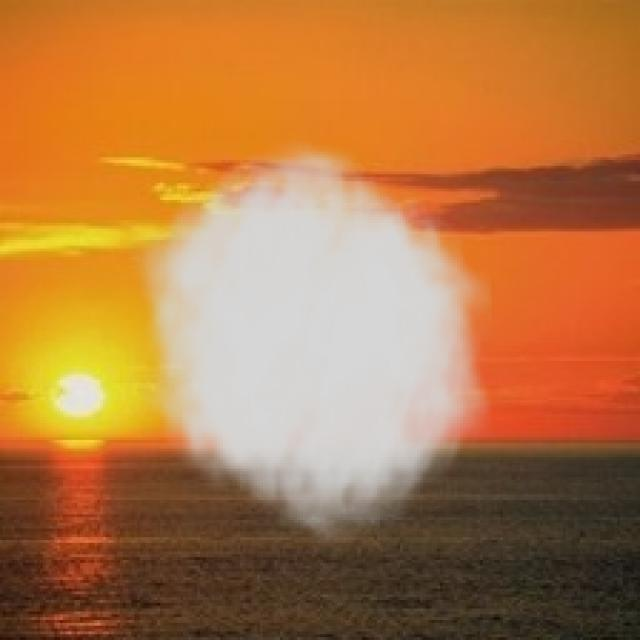Smoke: (126, 128, 492, 552)
